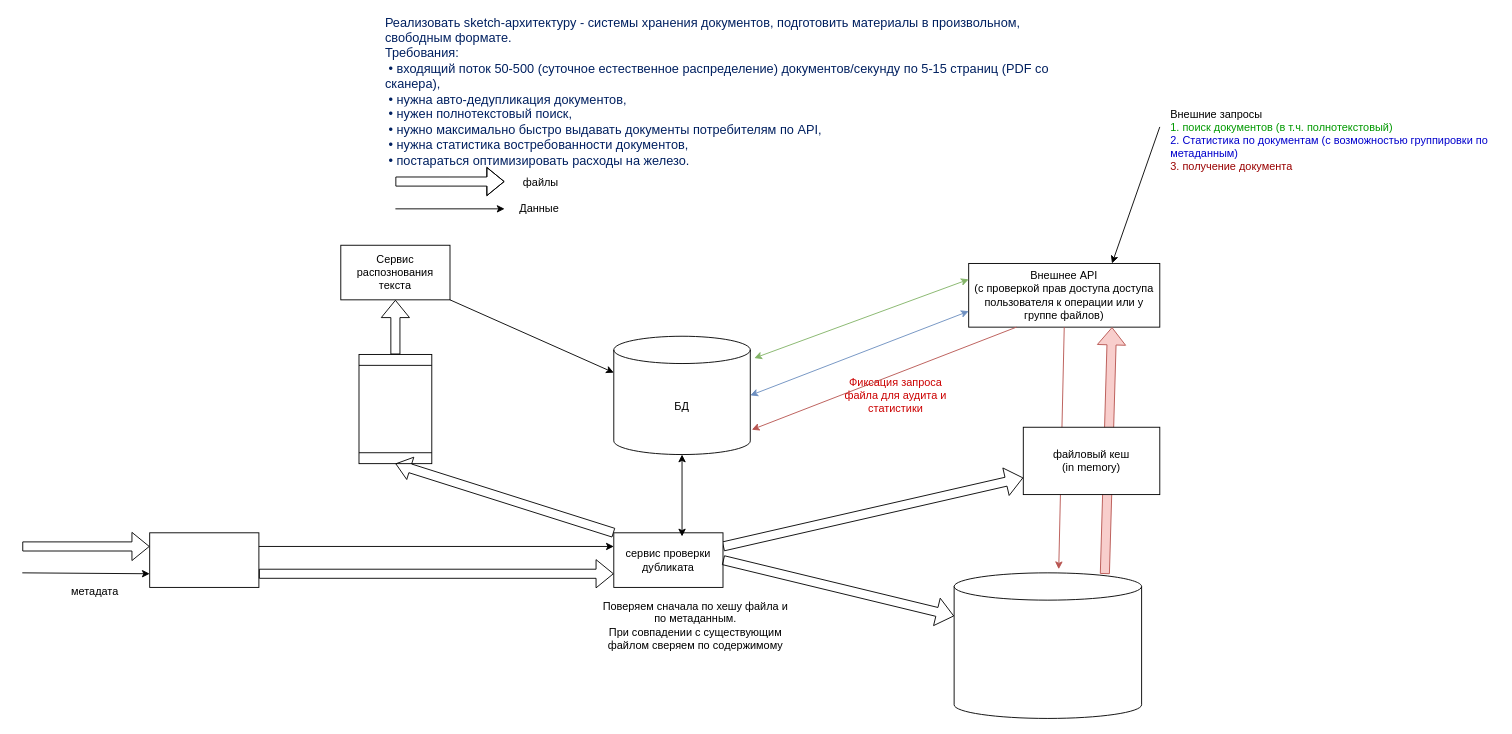
Some shapes in this 1512 by 734 pixel diagram are drawn without their labels. Each missing label, with the centre of its shape:
"REST Входящий поток документов" goes at (x=204, y=559).
"очередь сообщений (kafka)" goes at (x=395, y=409).
"Файловое хранилище (CEPH)" goes at (x=1047, y=645).
